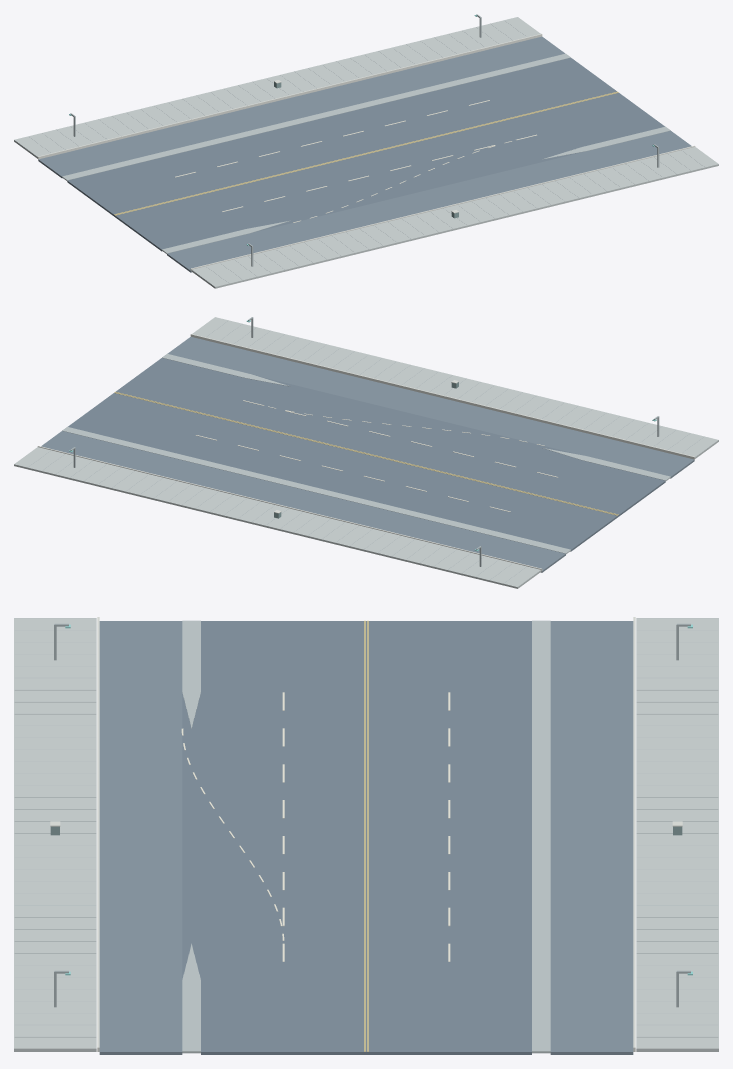
Rendered from city-w59-s59.glb.
3 views of the same model, one above another, from view 1: azimuth 30°, elevation 25°; view 2: azimuth 150°, elevation 25°; view 3: azimuth 270°, elevation 25° (orthographic). The views are drawn at different scales.
Visible parts, largest first — view 1: Main_road, Sidewalk, Frontage_roads, Medians, Curbs, Paving_joints, Merge_surface, Center_lines, Lane_markings; view 2: Main_road, Sidewalk, Frontage_roads, Medians, Curbs, Paving_joints, Merge_surface, Center_lines, Lane_markings; view 3: Main_road, Frontage_roads, Sidewalk, Medians, Paving_joints, Merge_surface, Curbs, Center_lines, Lane_markings, Street_lights.
Boxes of the visible parts, x1,y1,x2,y2 form: Main_road: [67, 57, 664, 251]; Sidewalk: [14, 17, 718, 288]; Frontage_roads: [38, 36, 691, 272]; Medians: [62, 53, 670, 253]; Curbs: [37, 33, 695, 271]; Paving_joints: [15, 20, 704, 286]; Merge_surface: [253, 149, 582, 232]; Center_lines: [114, 91, 618, 215]; Lane_markings: [175, 100, 536, 211]; Main_road: [68, 358, 665, 551]; Sidewalk: [14, 317, 718, 588]; Frontage_roads: [41, 337, 694, 572]; Medians: [62, 353, 670, 554]; Curbs: [37, 334, 695, 571]; Paving_joints: [28, 320, 718, 586]; Merge_surface: [248, 375, 578, 459]; Center_lines: [114, 391, 618, 515]; Lane_markings: [195, 400, 557, 512]; Main_road: [201, 621, 531, 1054]; Frontage_roads: [99, 621, 633, 1054]; Sidewalk: [14, 618, 718, 1051]; Medians: [182, 620, 550, 1053]; Paving_joints: [14, 618, 718, 1037]; Merge_surface: [182, 693, 200, 979]; Curbs: [97, 617, 635, 1051]; Center_lines: [364, 620, 368, 1051]; Lane_markings: [282, 692, 450, 961]; Street_lights: [54, 623, 692, 1007].
Bounding box in the file's own units: 72 × 3.26 × 49.8.
